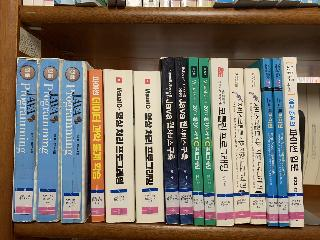book-spine: (103, 69, 134, 223), (134, 70, 164, 223), (12, 58, 38, 222), (61, 61, 85, 223), (37, 58, 60, 222), (243, 68, 267, 225), (212, 58, 234, 226), (227, 67, 250, 224), (283, 57, 304, 228), (173, 57, 193, 225), (161, 57, 179, 224), (272, 58, 289, 226), (188, 57, 204, 226), (199, 58, 215, 226), (262, 58, 278, 226), (89, 70, 104, 221)
